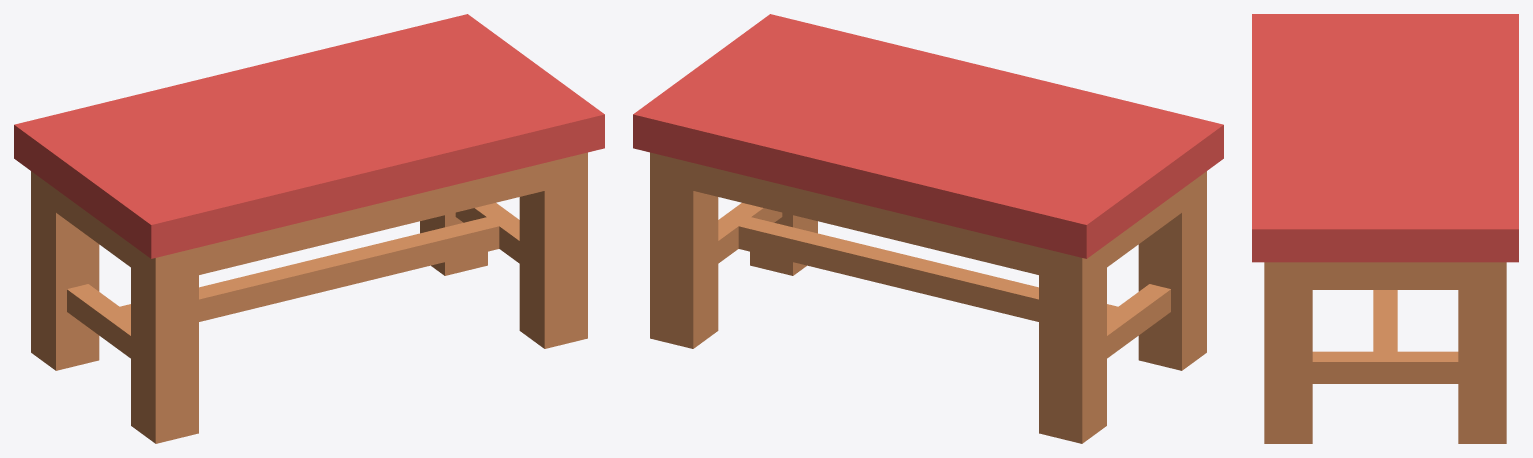
File: benchCushionLow.dae
3 views of the same model, side by side, from view 1: azimuth 30°, elevation 25°; view 2: azimuth 150°, elevation 25°; view 3: azimuth 270°, elevation 25° (orthographic). The views are drawn at different scales.
Parts seen in each view (by area): view 1: benchCushionLow; view 2: benchCushionLow; view 3: benchCushionLow.
Boxes of the visible parts, x1,y1,x2,y2 form: benchCushionLow: [14, 14, 604, 443]; benchCushionLow: [633, 14, 1223, 443]; benchCushionLow: [1252, 14, 1518, 443].
Size of the model in its own units: 0.42 by 0.2 by 0.22.
